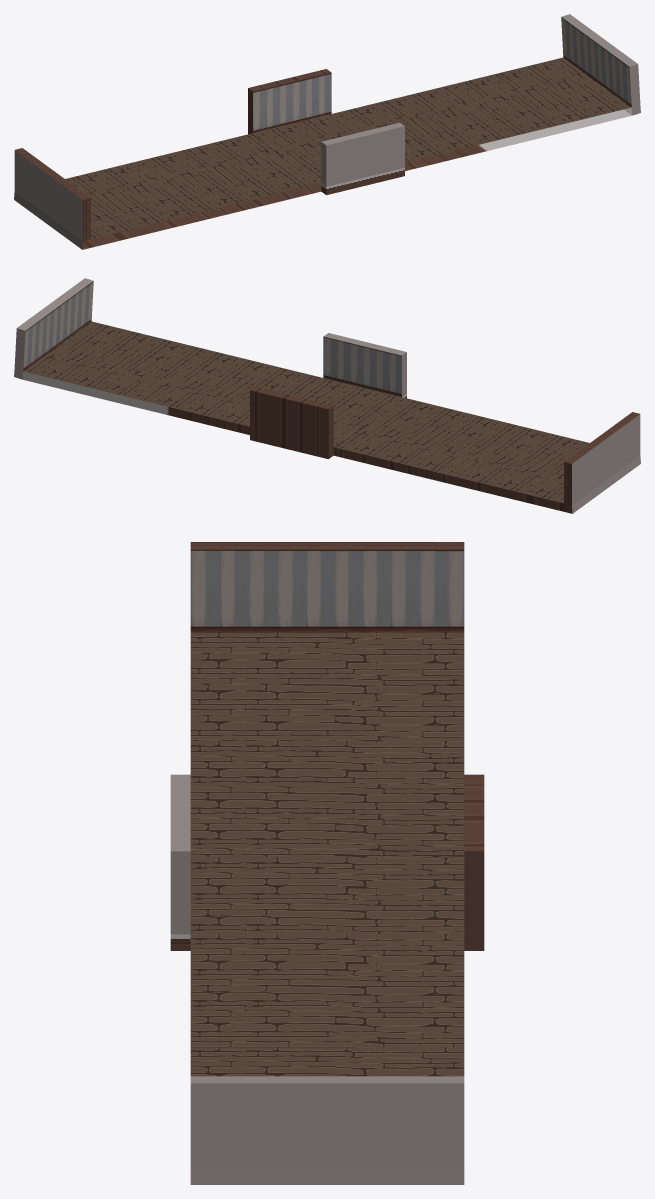
The model's file is Prototype_Hallway.FBX.
The picture shows the model from 3 angles, top to bottom: view 1: azimuth 30°, elevation 25°; view 2: azimuth 150°, elevation 25°; view 3: azimuth 270°, elevation 25°; orthographic projection. The views are drawn at different scales.
Parts seen in each view (by area): view 1: Box001; view 2: Box001; view 3: Box001.
Part boxes in pixels (left/top/right/bottom): Box001: left=14, top=14, right=640, bottom=249; Box001: left=14, top=278, right=640, bottom=513; Box001: left=170, top=542, right=484, bottom=1184.
Bounding box in the file's own units: 235 × 20.13 × 57.06.
